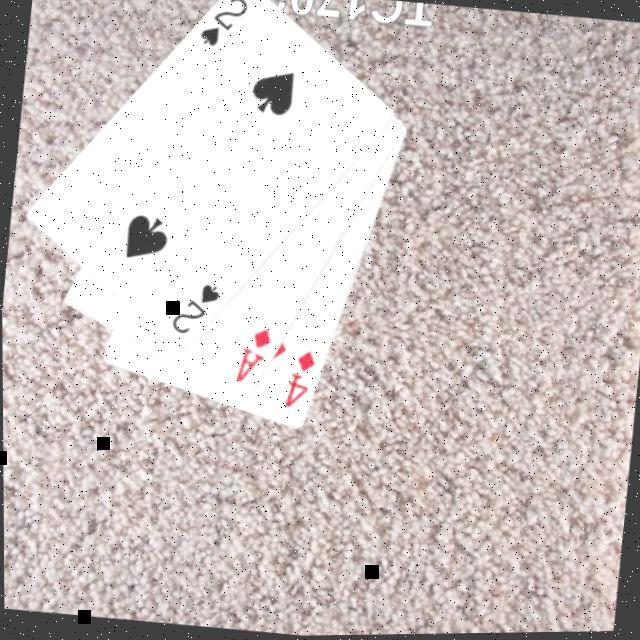2S: (168, 279, 225, 344), (195, 0, 253, 57)
4D: (280, 348, 322, 416)
AD: (232, 324, 276, 392)
